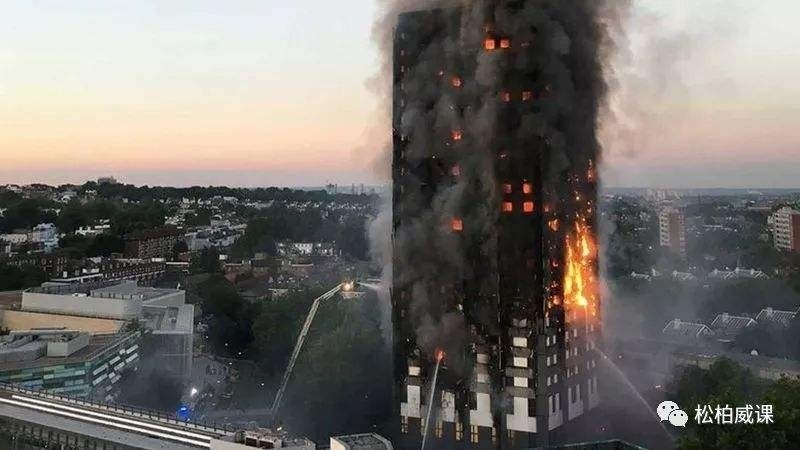fire: (555, 180, 602, 313), (502, 180, 536, 215), (436, 65, 463, 88), (481, 32, 509, 51), (450, 215, 464, 231), (451, 127, 463, 141), (435, 347, 446, 362)
